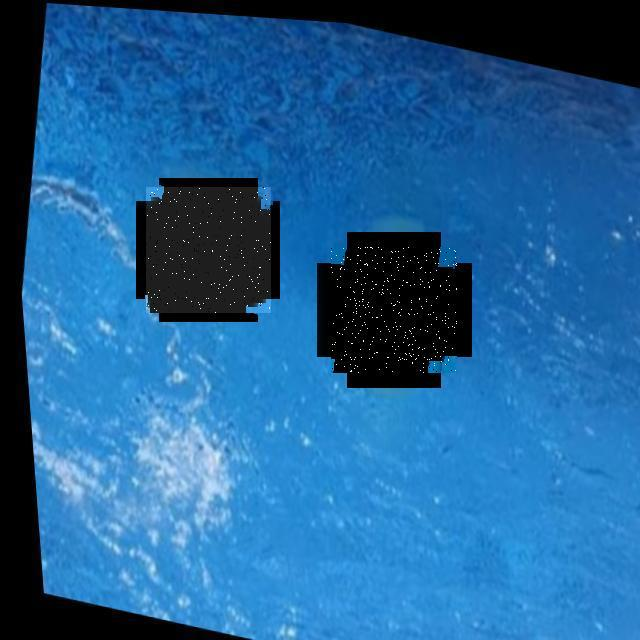swimming: (331, 247, 457, 373), (146, 187, 271, 313)
